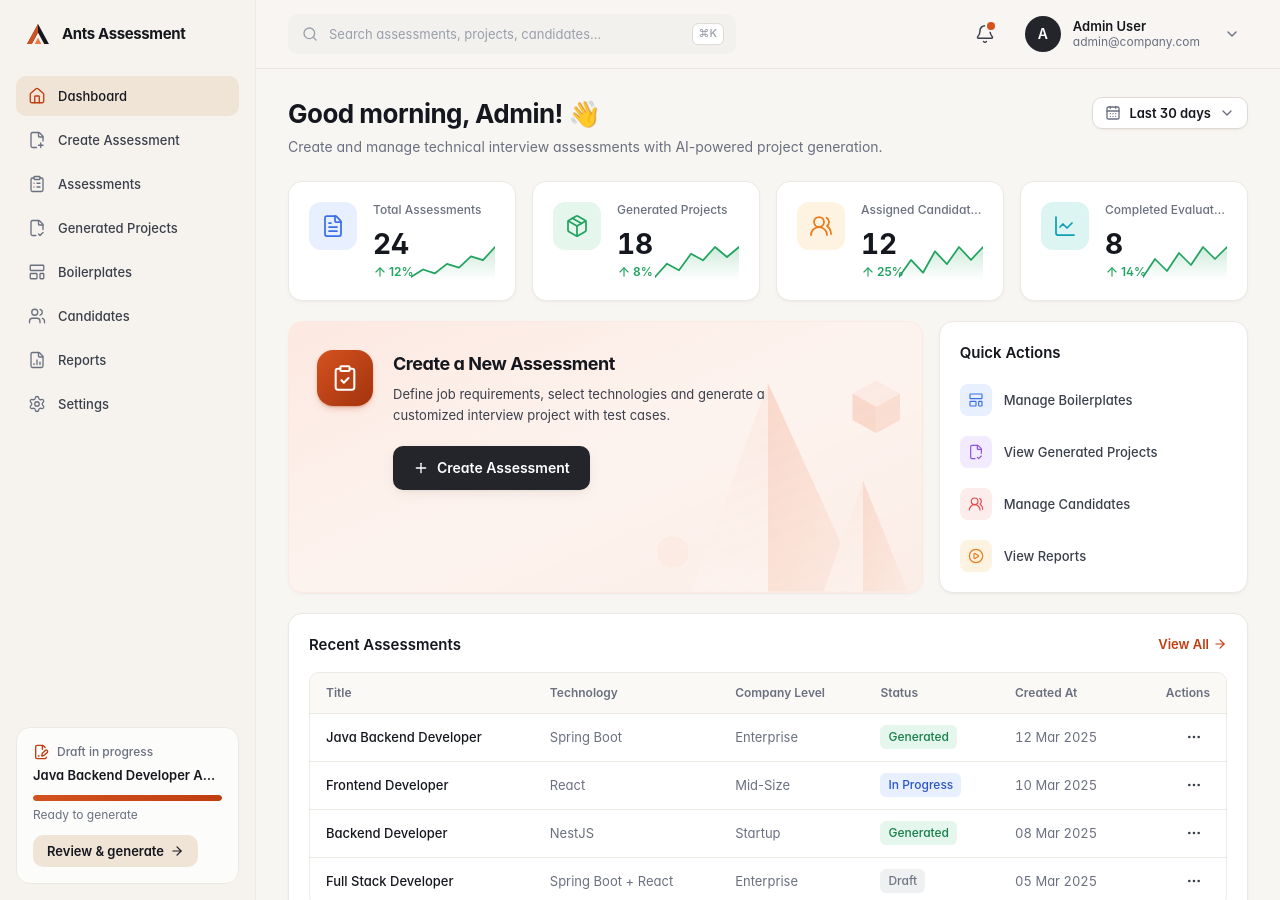
Test: DashboardPage › switches the statistics range
The image size is (1280, 900).
Expected: the text "24" is shown, [373,227,409,261]
What coordinates should you click on to do the following:
click the button with aria-label "Date range"
I would click on:
 (1170, 113)
Its box is [1092,97,1248,129].
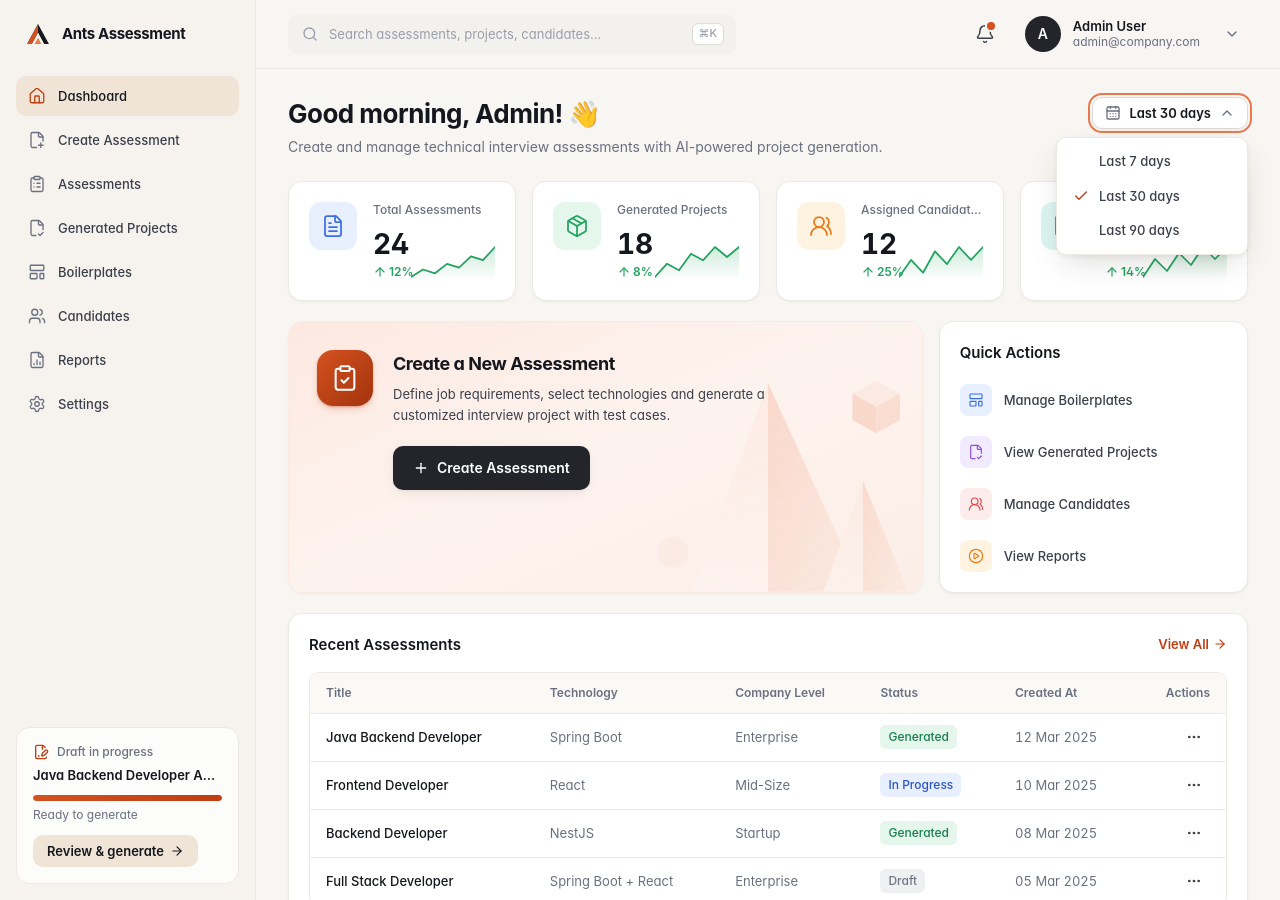
What coordinates should you click on to do the following:
click the menu item "Last 90 days"
I would click on:
 (1152, 230)
Its box is [1063,213,1241,248].
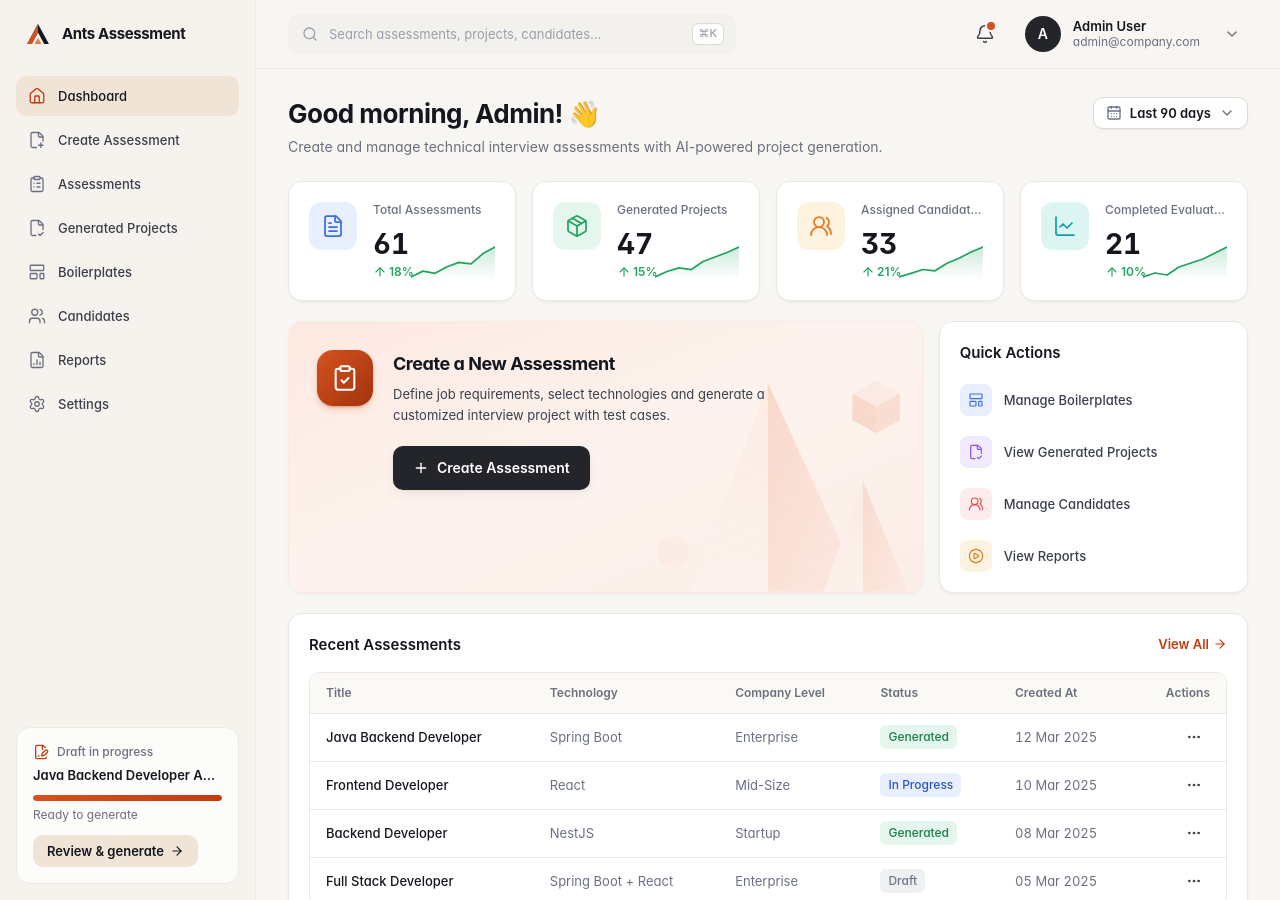
Expected: the text "61" is shown, [373,227,409,261]
Expected: the text "24" is gone
